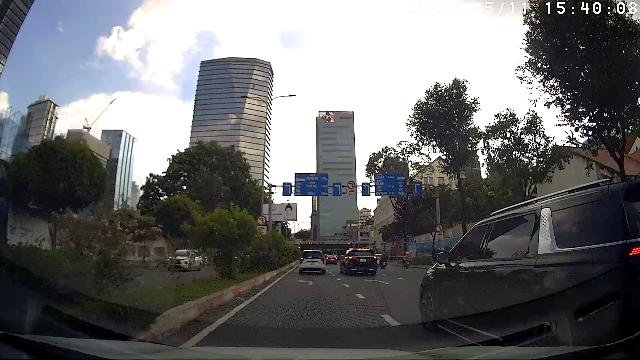123a-cam-re-trai: (257, 215, 267, 225), (347, 179, 355, 188), (436, 224, 442, 232)
